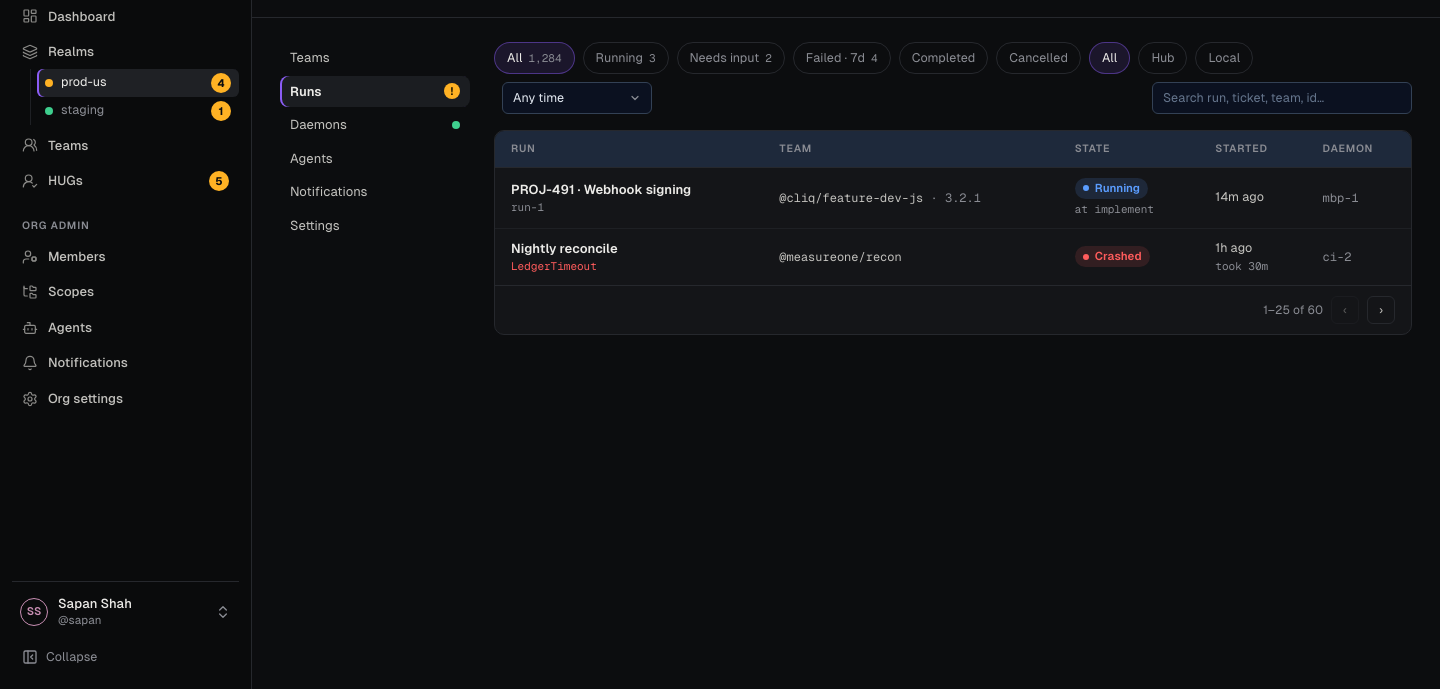
Test: Realm runs page › state chip, range, search and paging go to the BFF and the URL
Expected: the row with test id "run-run-1" is shown, 495,167 -> 1411,228
Click the button "Failed · 7d 4".
click(842, 58)  # box 793,42 -> 891,74
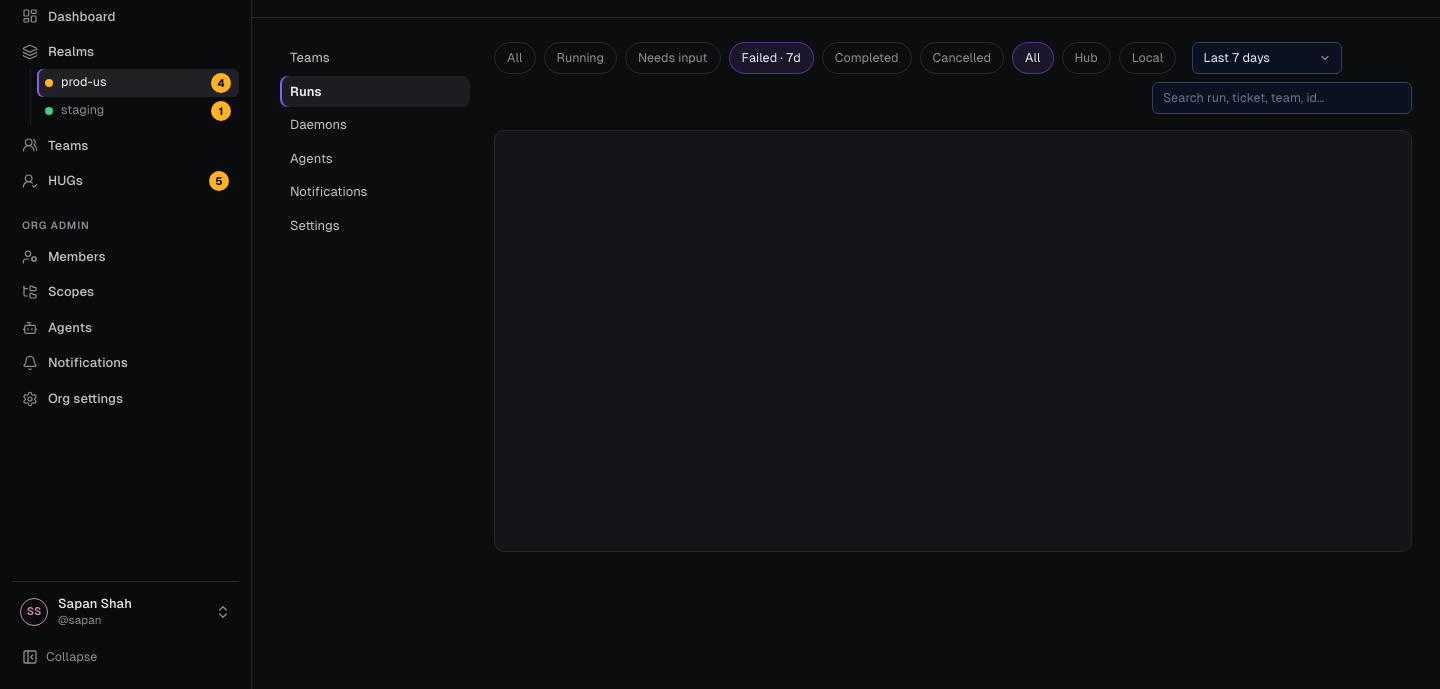
Type "PROJ" into the field named "Search runs".
click(1282, 98); type("PROJ")  # box 1152,82 -> 1412,114
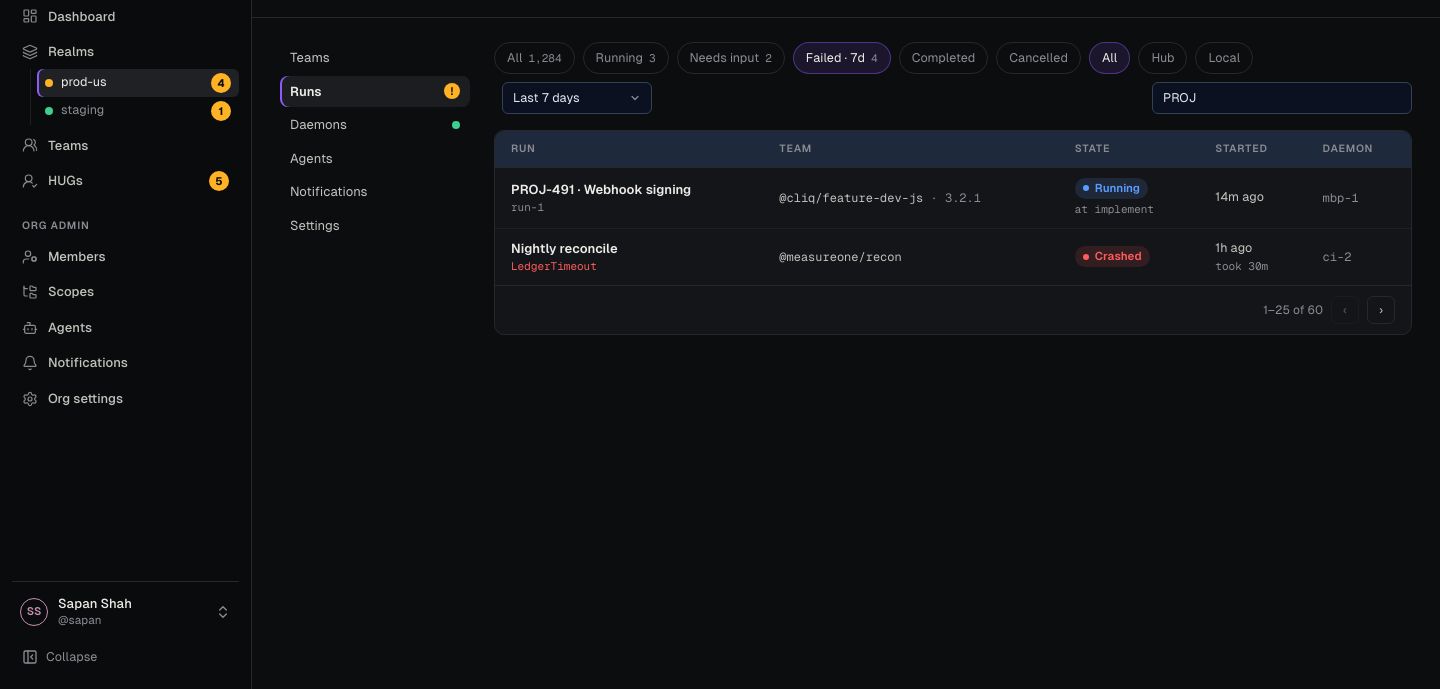
Click the button named "Next page".
click(1381, 310)  # box 1367,296 -> 1395,324
(page scrolled)
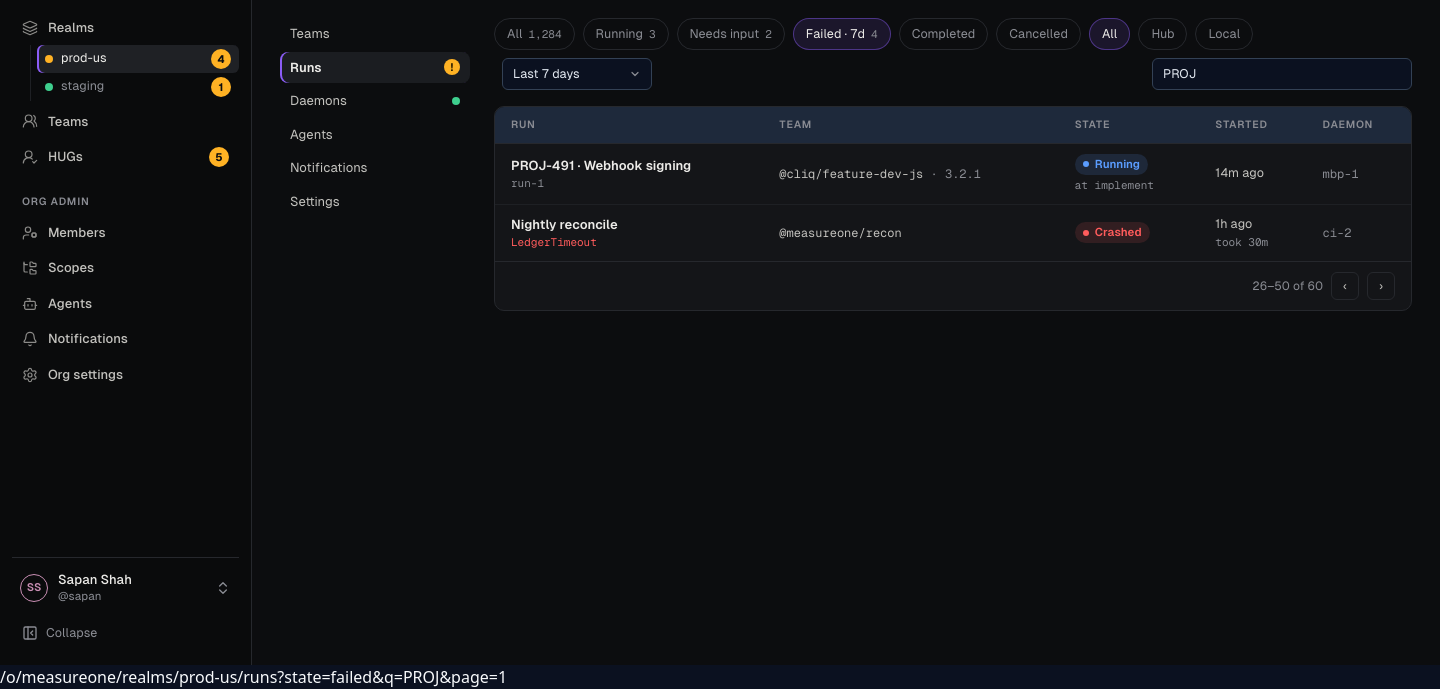
Now the text with test id "where" shows "page=1", box 277,666 -> 507,688
